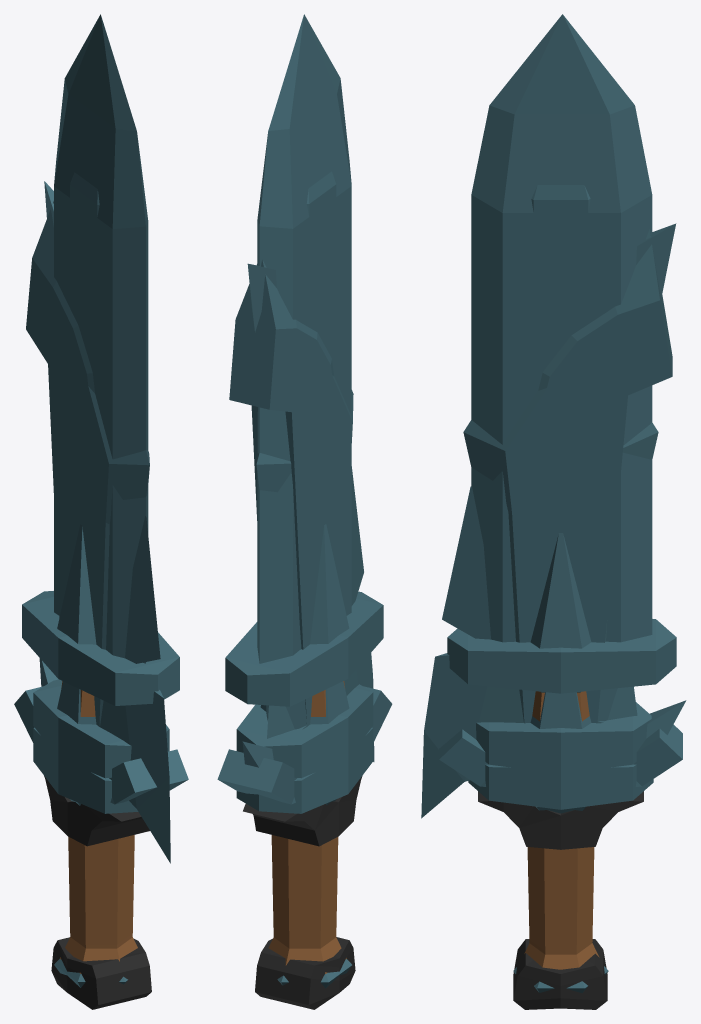
File: rig_Sword_Short.fbx
3 renders of one model, left to right at view 1: azimuth 30°, elevation 25°; view 2: azimuth 150°, elevation 25°; view 3: azimuth 270°, elevation 25°, orthographic.
Visible parts, largest first — view 1: Sword_07_Short, Sword_02_Short, Sword_04_Short, Sword_01_Short, Sword_05_Short, Sword_03_Short, Sword_06_Short; view 2: Sword_07_Short, Sword_05_Short, Sword_01_Short, Sword_02_Short, Sword_03_Short, Sword_06_Short, Sword_04_Short; view 3: Sword_07_Short, Sword_02_Short, Sword_05_Short, Sword_06_Short, Sword_04_Short, Sword_01_Short, Sword_03_Short.
Part boxes in pixels (left/top/right/bottom): Sword_07_Short: left=22, top=14, right=179, bottom=705; Sword_02_Short: left=14, top=360, right=188, bottom=987; Sword_04_Short: left=44, top=181, right=170, bottom=973; Sword_01_Short: left=33, top=727, right=138, bottom=947; Sword_05_Short: left=26, top=201, right=94, bottom=686; Sword_03_Short: left=44, top=776, right=151, bottom=1009; Sword_06_Short: left=33, top=172, right=169, bottom=778; Sword_07_Short: left=225, top=14, right=383, bottom=706; Sword_05_Short: left=229, top=259, right=336, bottom=767; Sword_01_Short: left=236, top=727, right=373, bottom=948; Sword_02_Short: left=217, top=359, right=392, bottom=988; Sword_03_Short: left=243, top=776, right=362, bottom=1009; Sword_06_Short: left=236, top=171, right=373, bottom=778; Sword_04_Short: left=247, top=263, right=374, bottom=973; Sword_07_Short: left=447, top=14, right=676, bottom=693; Sword_02_Short: left=439, top=367, right=682, bottom=993; Sword_05_Short: left=538, top=229, right=686, bottom=738; Sword_06_Short: left=476, top=185, right=651, bottom=770; Sword_04_Short: left=421, top=223, right=676, bottom=969; Sword_01_Short: left=468, top=381, right=653, bottom=954; Sword_03_Short: left=478, top=791, right=643, bottom=1009.
Size of the model in its own units: 12.85 by 139 by 33.94.
